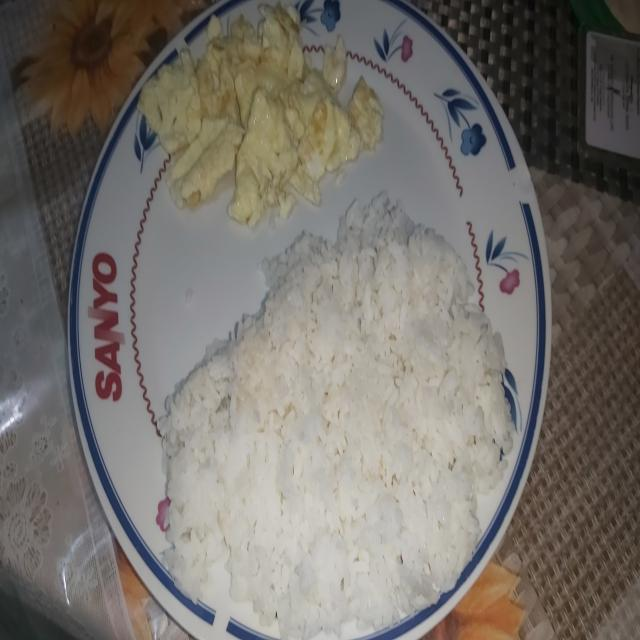Chicken -Chicken Inasal-: (181, 211, 510, 619)
